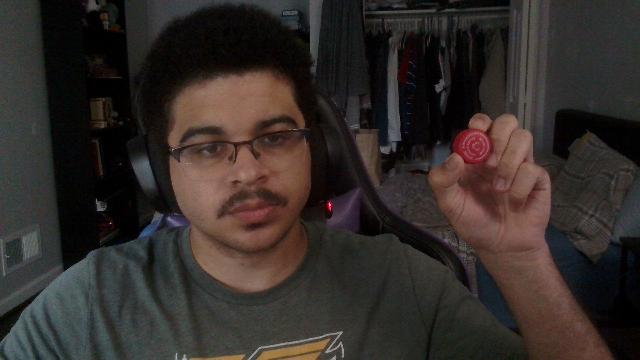cap: (454, 128, 492, 164)
